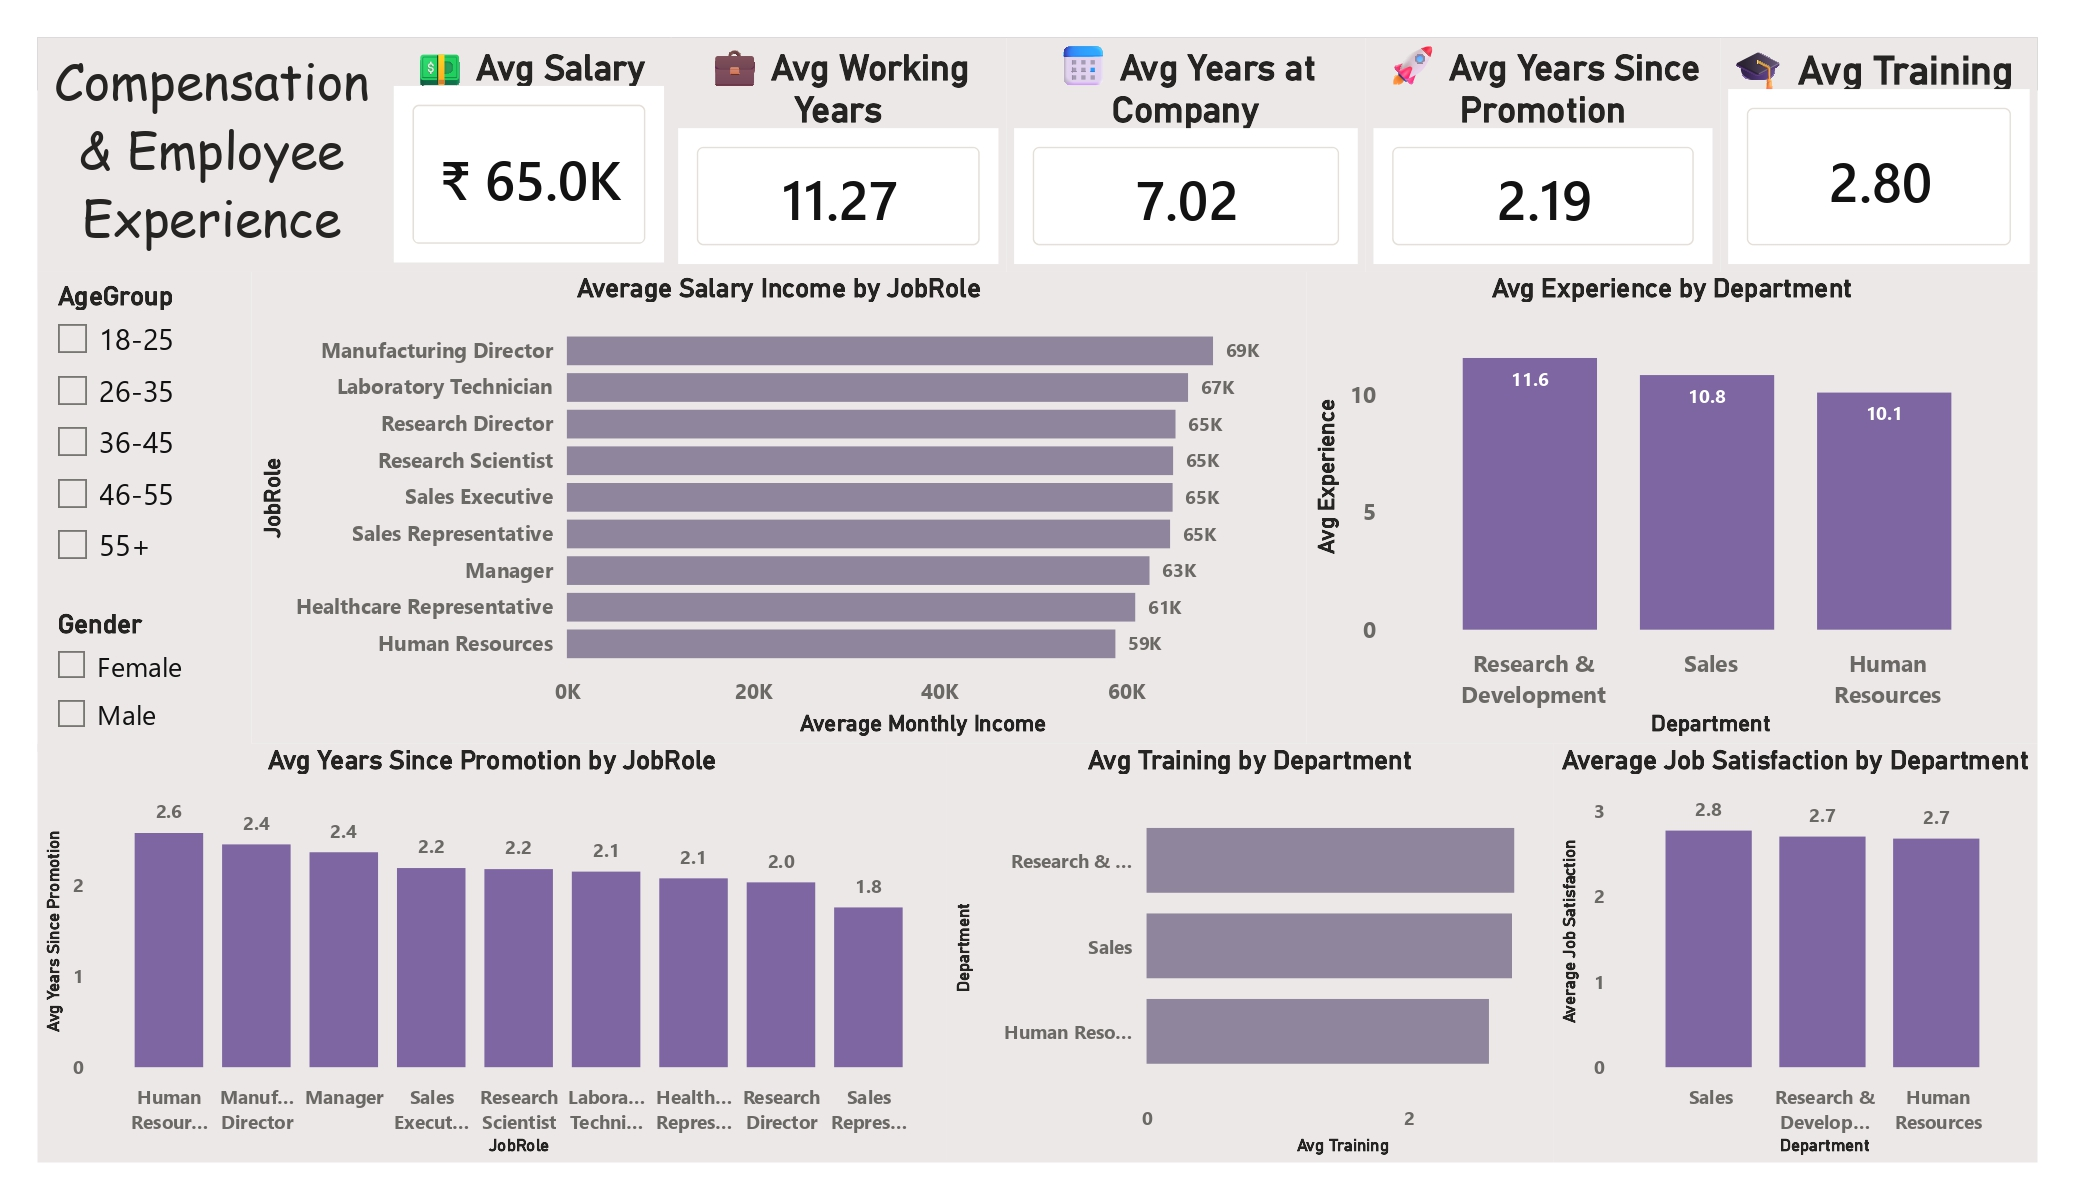

Layout of this report page (visuals, bound fields, positions):
{"tool":"powerbi","page":{"name":"Compensation & Employee Experience","canvas":[1280,720],"ordinal":2},"visuals":[{"type":"textbox","box":[0,0,222.9,150],"z":0},{"type":"cardVisual","title":"💵 Avg Salary","fields":{"Data":["HR_Analytics_Cleaned.Average Monthly Income"]},"box":[222.9,0,182.9,150],"z":1000},{"type":"cardVisual","title":"💼 Avg Working Years","fields":{"Data":["HR_Analytics_Cleaned.Avg Experience"]},"box":[405,0,215,150],"z":2000},{"type":"cardVisual","title":"📅 Avg Years at Company","fields":{"Data":["HR_Analytics_Cleaned.Avg Years at Company"]},"box":[620,0,230,150],"z":3000},{"type":"cardVisual","title":"🚀 Avg Years Since Promotion","fields":{"Data":["HR_Analytics_Cleaned.Avg Years Since Promotion"]},"box":[850,0,226.7,150],"z":4000},{"type":"cardVisual","title":"🎓 Avg Training","fields":{"Data":["HR_Analytics_Cleaned.Avg Training"]},"box":[1076.7,0,203.3,150],"z":5000},{"type":"clusteredBarChart","title":"Average Salary Income by JobRole","fields":{"Category":["HR_Analytics_Cleaned.JobRole"],"Y":["HR_Analytics_Cleaned.Average Monthly Income"]},"box":[136.7,150,675,301.7],"z":6000},{"type":"clusteredColumnChart","fields":{"Category":["HR_Analytics_Cleaned.Department"],"Y":["HR_Analytics_Cleaned.Avg Experience"]},"box":[811.7,150,468.3,301.7],"z":7000},{"type":"clusteredColumnChart","fields":{"Category":["HR_Analytics_Cleaned.JobRole"],"Y":["HR_Analytics_Cleaned.Avg Years Since Promotion"]},"box":[0,451.7,581.7,268.3],"z":8000},{"type":"clusteredBarChart","fields":{"Category":["HR_Analytics_Cleaned.Department"],"Y":["HR_Analytics_Cleaned.Avg Training"]},"box":[581.7,451.7,388.3,268.3],"z":9000},{"type":"clusteredColumnChart","fields":{"Y":["HR_Analytics_Cleaned.Average Job Satisfaction"],"Category":["HR_Analytics_Cleaned.Department"]},"box":[970,451.7,310,268.3],"z":10000},{"type":"slicer","fields":{"Values":["HR_Analytics_Cleaned.Gender"]},"box":[0,360,136.7,96.7],"z":11000},{"type":"slicer","fields":{"Values":["HR_Analytics_Cleaned.AgeGroup"]},"box":[0,150,136.7,210],"z":12000}]}

Visuals, with their boxes on the page's 1280x720 design canvas (x1, y1, x2, y2). These are canvas units, not pixel positions in the 2075x1200 screenshot, which may show the page scaled, cropped or inside an application window:
textbox: [0, 0, 223, 150]
"💵 Avg Salary" cardVisual: [223, 0, 406, 150]
"💼 Avg Working Years" cardVisual: [405, 0, 620, 150]
"📅 Avg Years at Company" cardVisual: [620, 0, 850, 150]
"🚀 Avg Years Since Promotion" cardVisual: [850, 0, 1077, 150]
"🎓 Avg Training" cardVisual: [1077, 0, 1280, 150]
"Average Salary Income by JobRole" clusteredBarChart: [137, 150, 812, 452]
clusteredColumnChart - HR_Analytics_Cleaned.Department x HR_Analytics_Cleaned.Avg Experience: [812, 150, 1280, 452]
clusteredColumnChart - HR_Analytics_Cleaned.JobRole x HR_Analytics_Cleaned.Avg Years Since Promotion: [0, 452, 582, 720]
clusteredBarChart - HR_Analytics_Cleaned.Department x HR_Analytics_Cleaned.Avg Training: [582, 452, 970, 720]
clusteredColumnChart - HR_Analytics_Cleaned.Average Job Satisfaction x HR_Analytics_Cleaned.Department: [970, 452, 1280, 720]
slicer - HR_Analytics_Cleaned.Gender: [0, 360, 137, 457]
slicer - HR_Analytics_Cleaned.AgeGroup: [0, 150, 137, 360]
